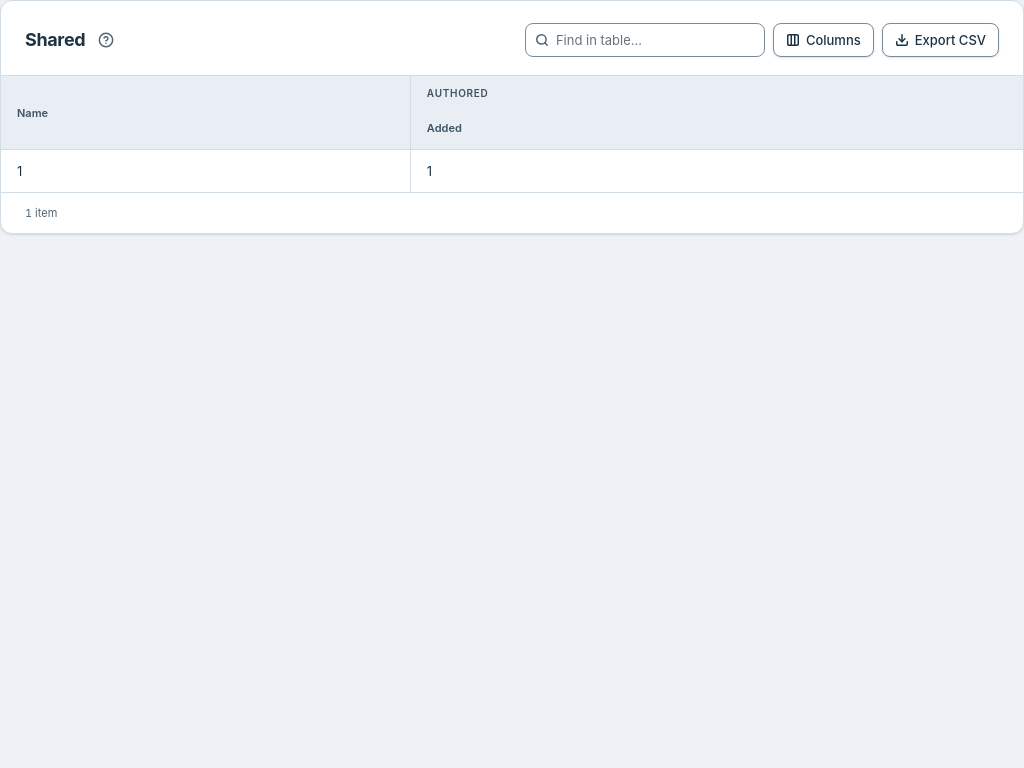
Scenario: shares the same organization in the table menu and CSV form without changing visibility
The width and height of the screenshot is (1024, 768).
Click the button "Columns" at (823, 40), box [773,23,874,57]
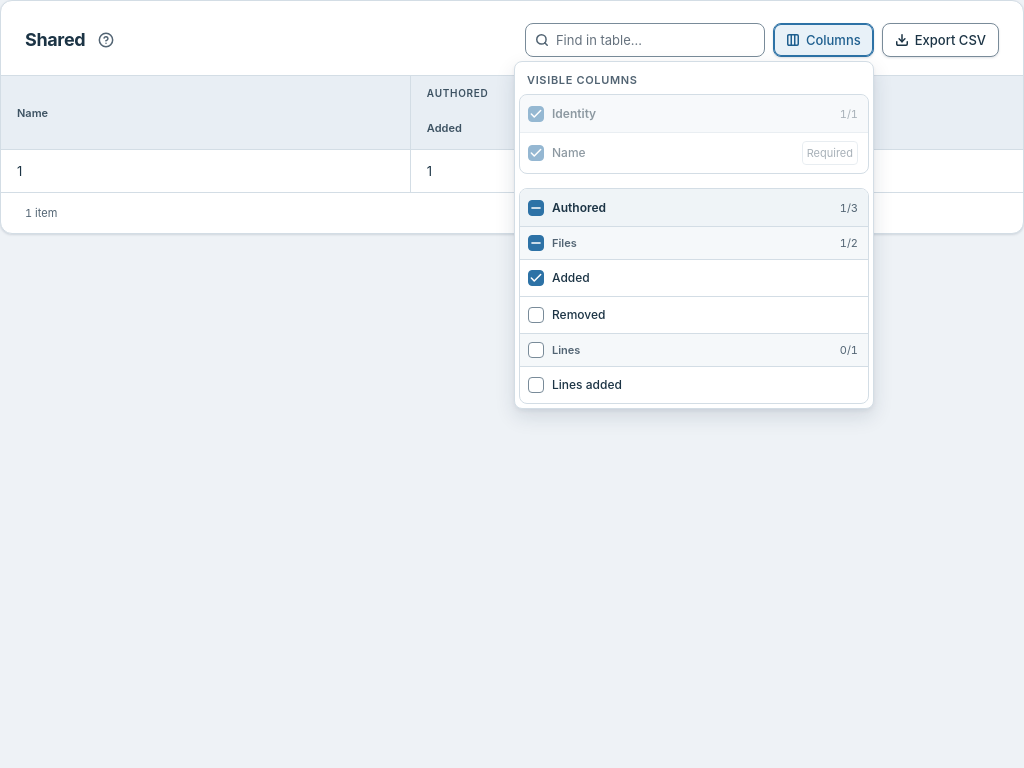
Expected: the element "Identity" is shown, [519,94,869,174]
Expected: the element "Authored" is shown, [519,188,869,404]
Press Escape
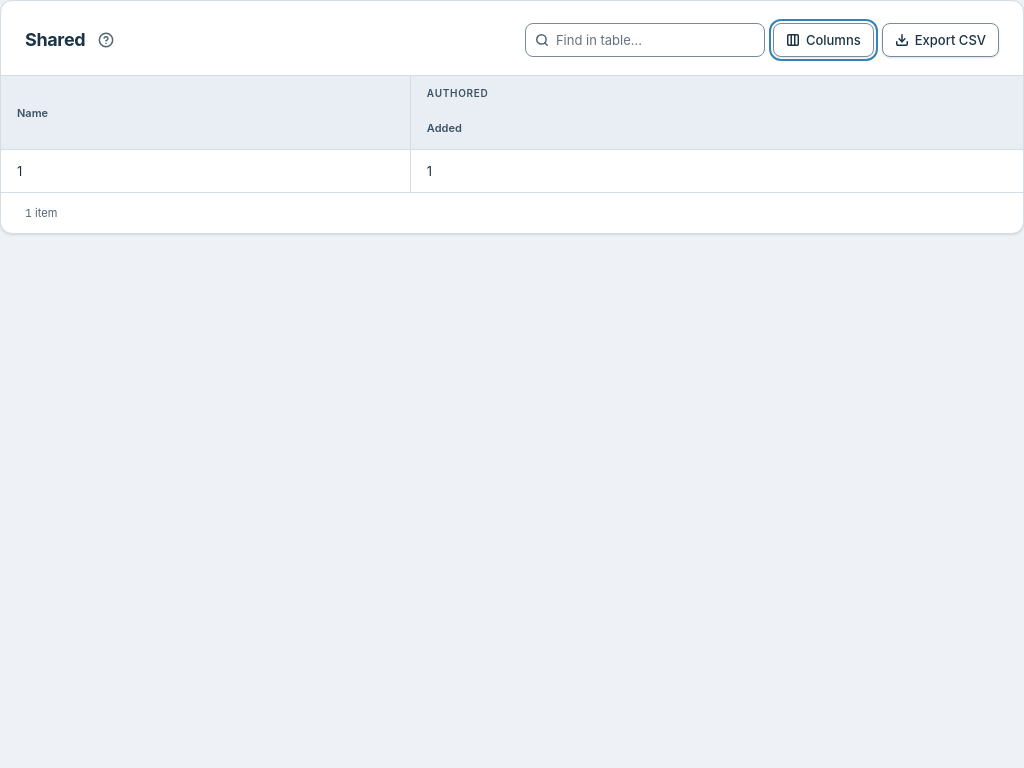
Click the button "Export CSV" at (940, 40), box [882,23,999,57]
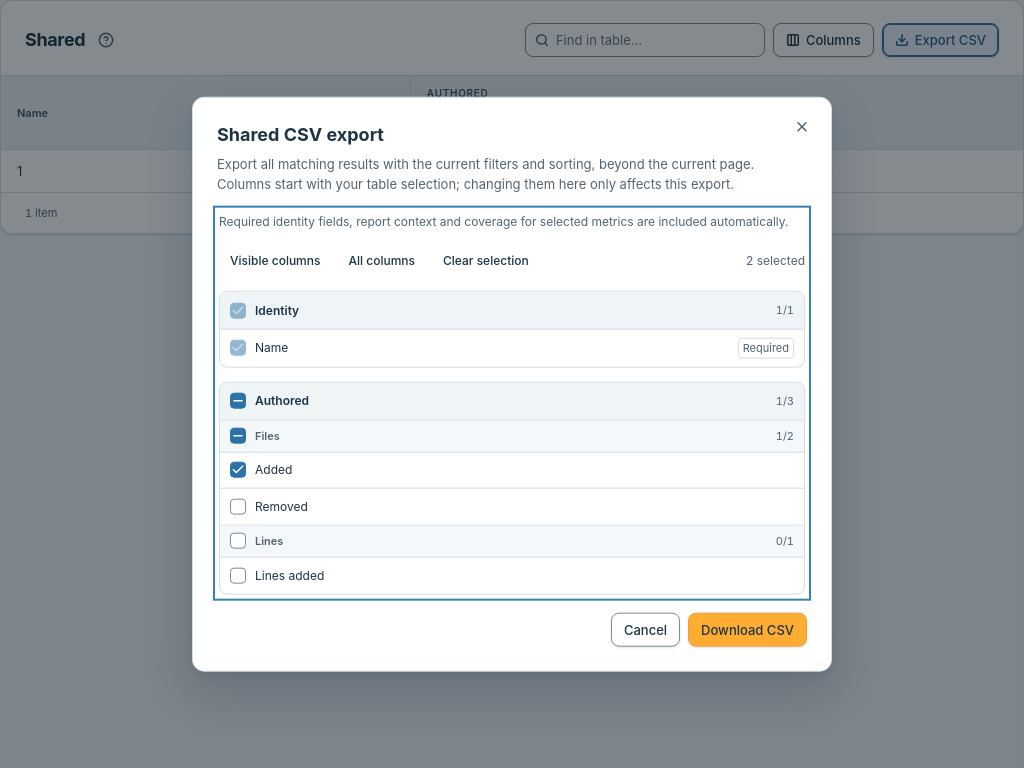
Expected: the element "Identity" is shown, [219,291,805,367]
Click the checkbox labelled "Lines" at (238, 541), box [230,533,246,549]
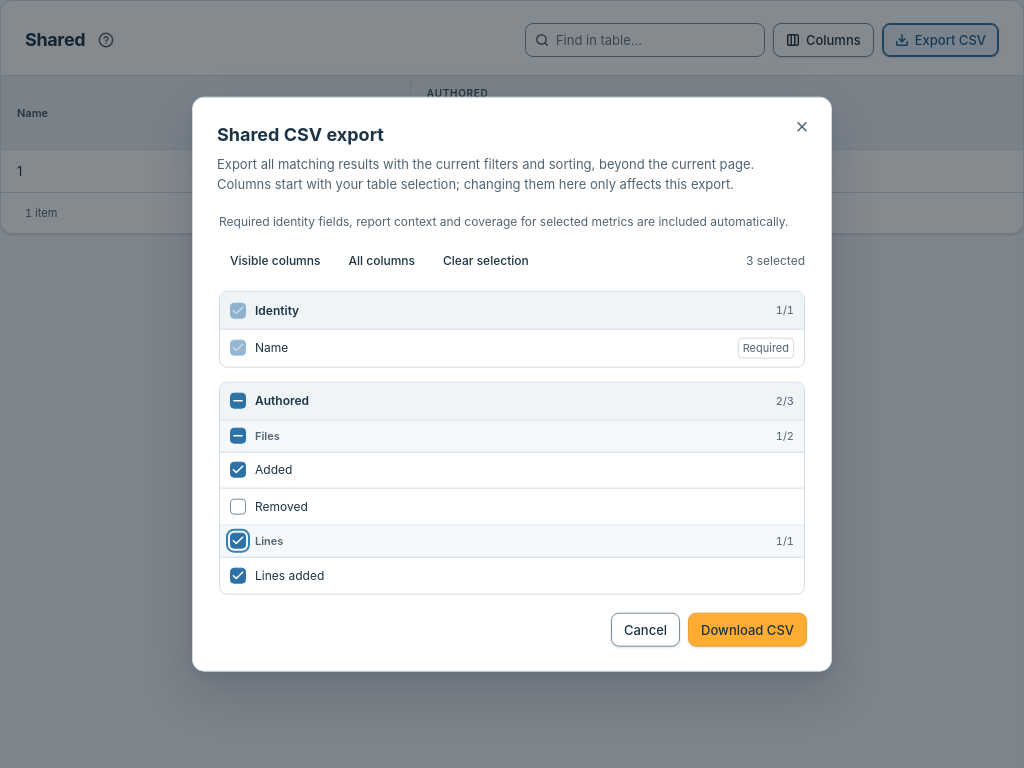
Expected: the checkbox labelled "Lines added" is checked, [230,567,246,583]
